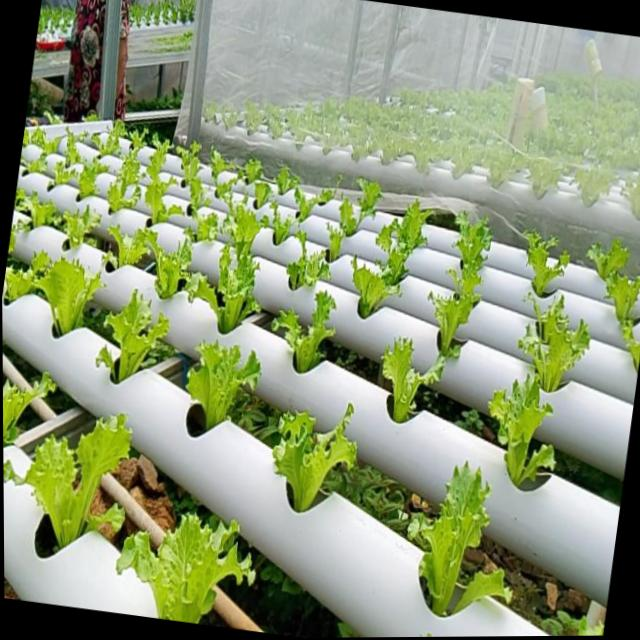Baby: (3, 411, 128, 544), (114, 511, 252, 622), (406, 460, 487, 615), (427, 213, 489, 364), (270, 403, 354, 512), (485, 374, 551, 486), (184, 341, 258, 437), (515, 295, 586, 391), (99, 290, 167, 383), (33, 253, 103, 335), (379, 337, 442, 423), (269, 291, 334, 373), (374, 200, 431, 285), (134, 228, 197, 302), (104, 132, 144, 213), (275, 231, 328, 291), (521, 231, 566, 297), (219, 198, 266, 261), (601, 268, 640, 342), (349, 258, 397, 318), (89, 120, 122, 155), (76, 157, 104, 198), (212, 171, 236, 203), (194, 212, 216, 241), (62, 129, 78, 167)
